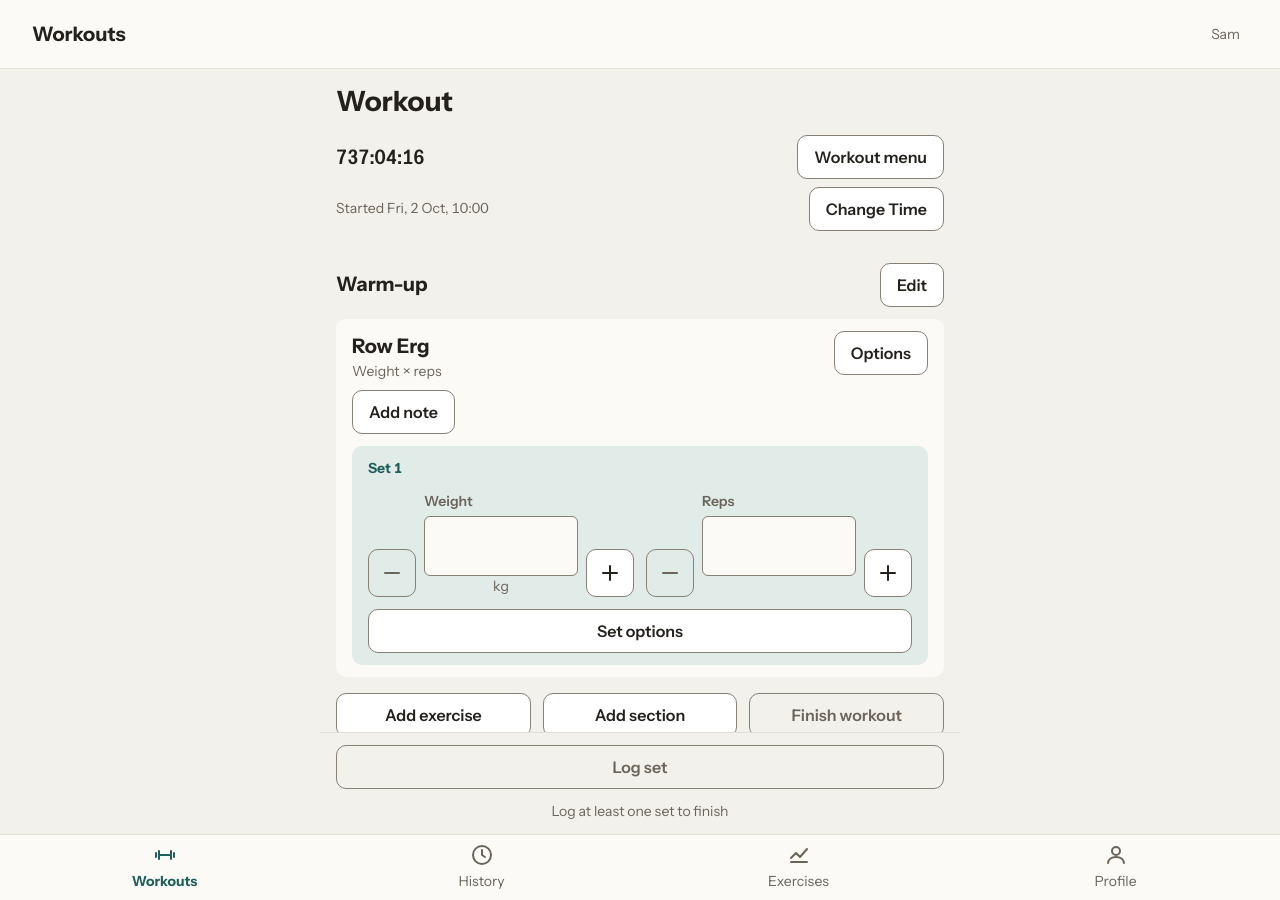
it: 10.6 AC12 — offline and busy › no sin:workout:* storage key is touched by a section write
Check: the heading "Workout" is shown, box [336,84,453,118]
Click the button "Add section".
click(640, 715)  # box [543,693,737,737]
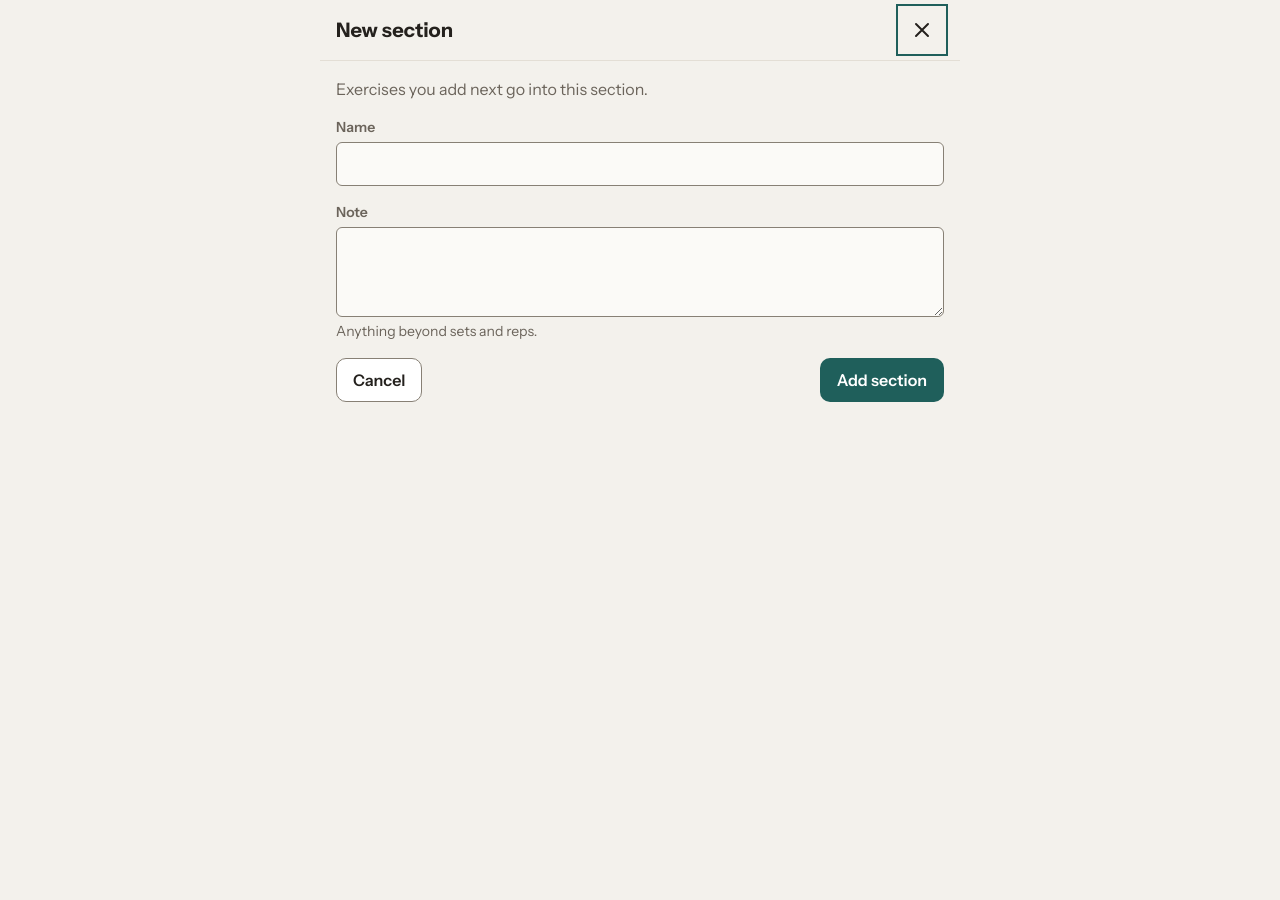
Type "Cooldown" into the field labelled "Name".
click(640, 164); type("Cooldown")  # box [336,142,944,186]
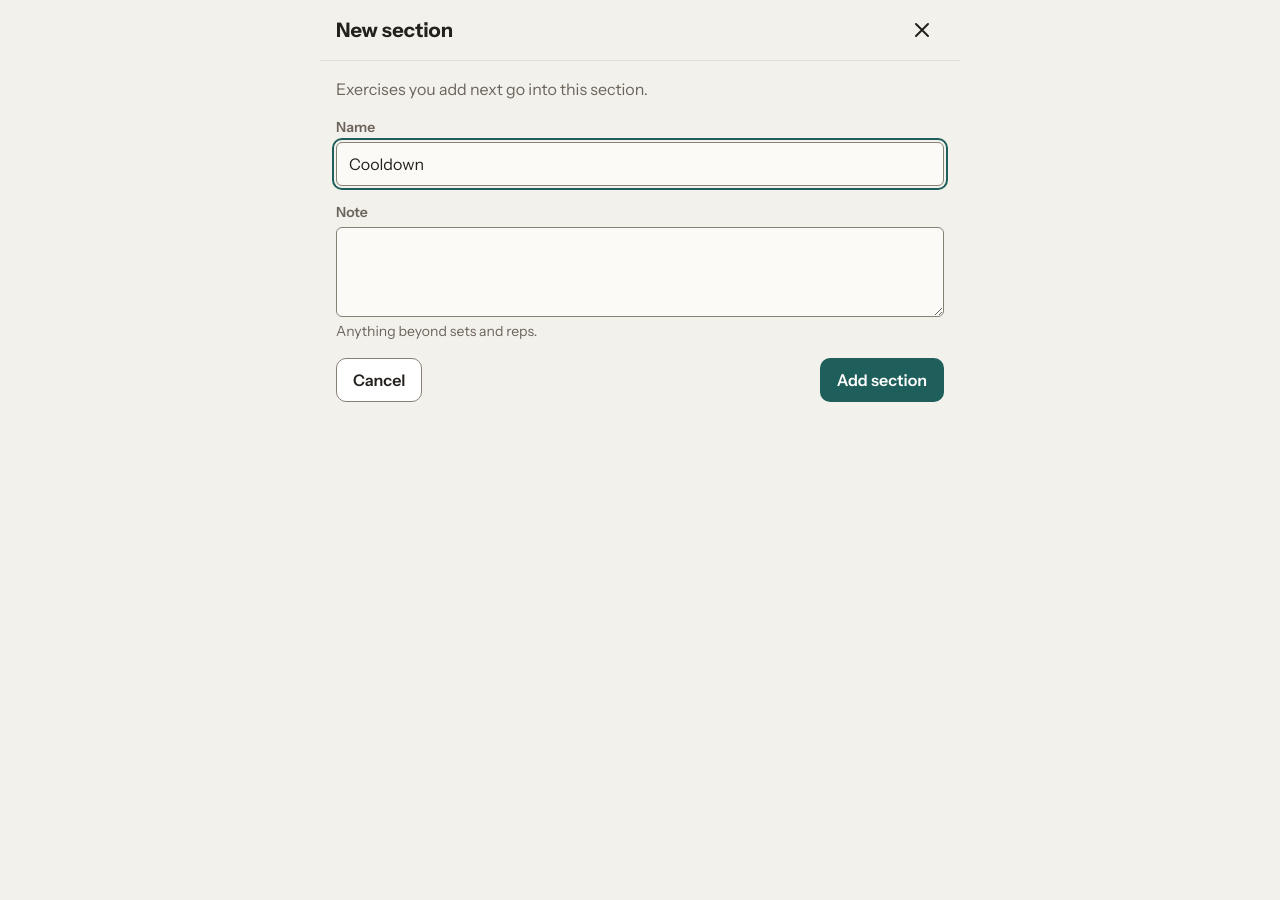
Click the button "Add section".
click(882, 380)  # box [820,358,944,402]
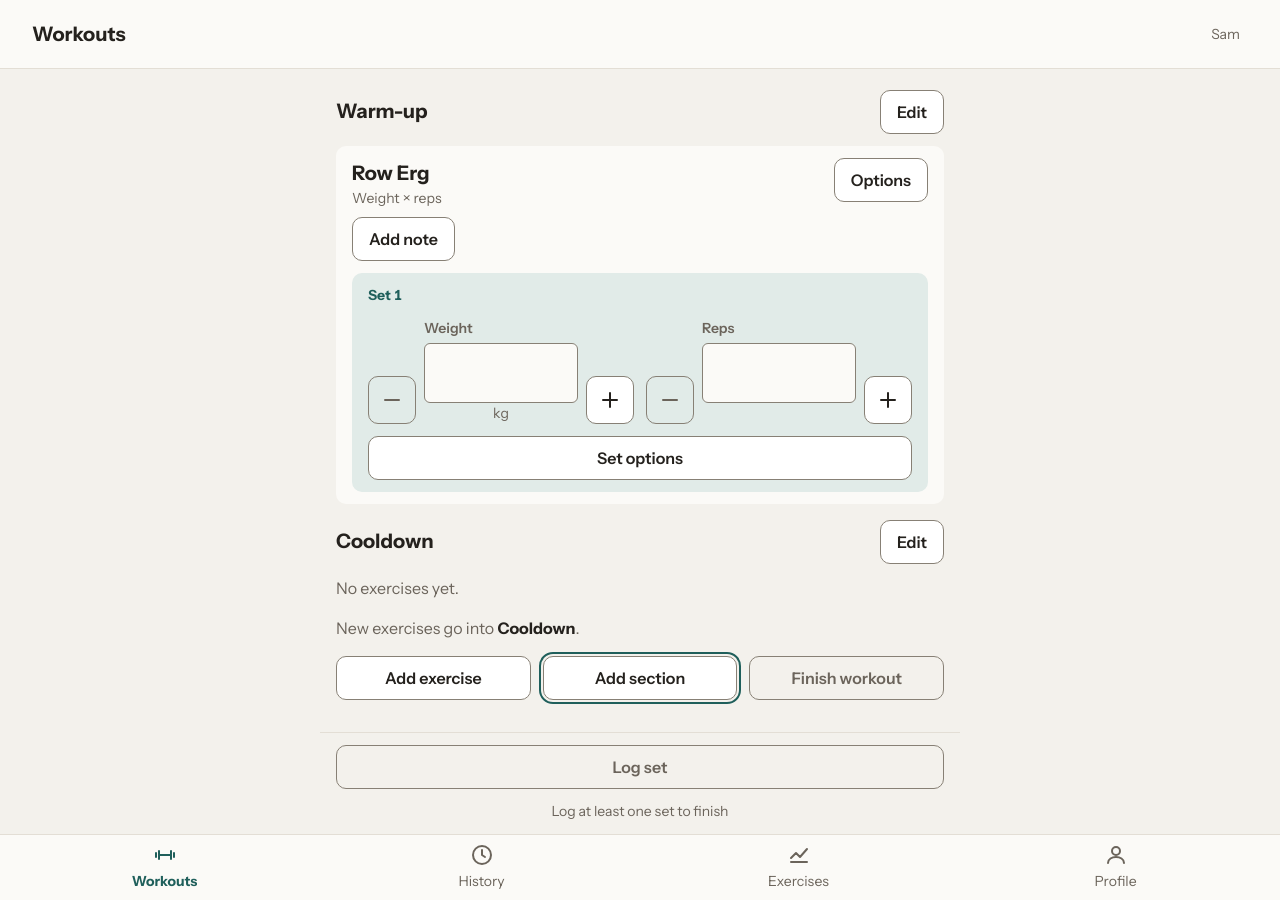
Check: the heading "New section" is gone
